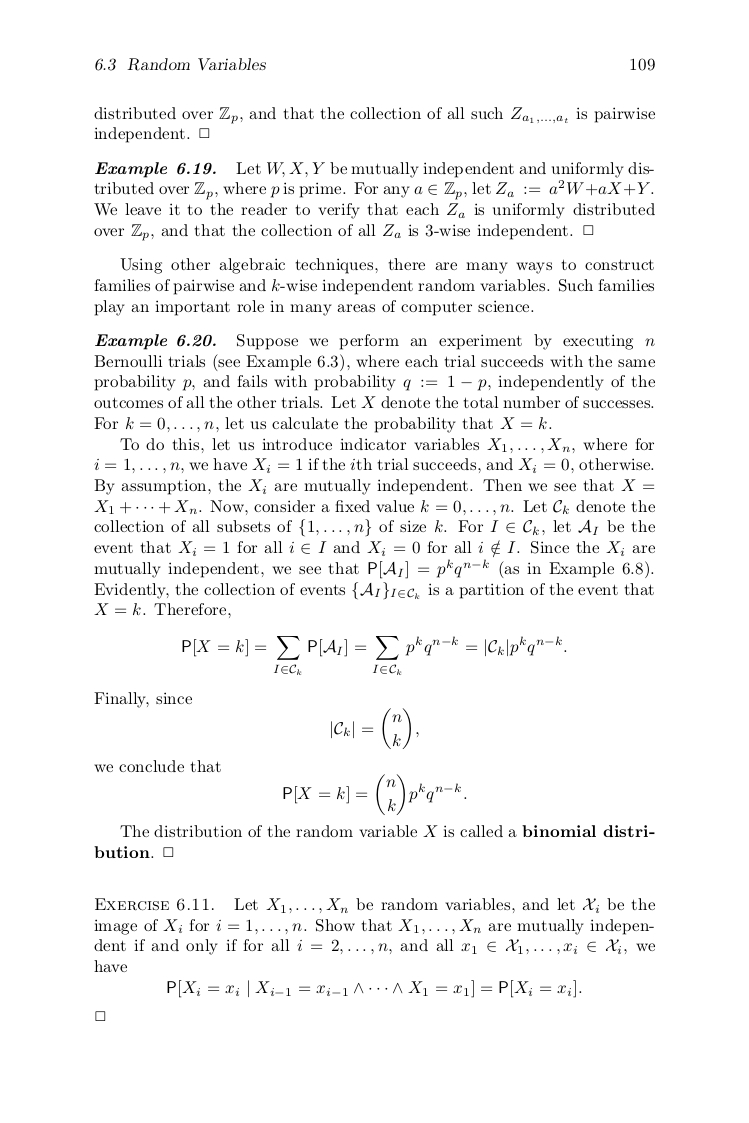formula: (182, 636, 566, 674), (167, 979, 581, 998), (283, 774, 466, 814), (331, 708, 418, 748)
